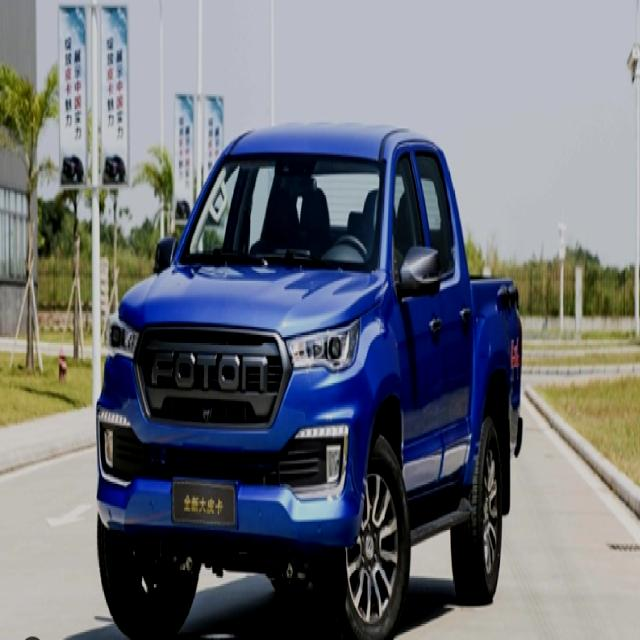CMT: (95, 122, 522, 635)
